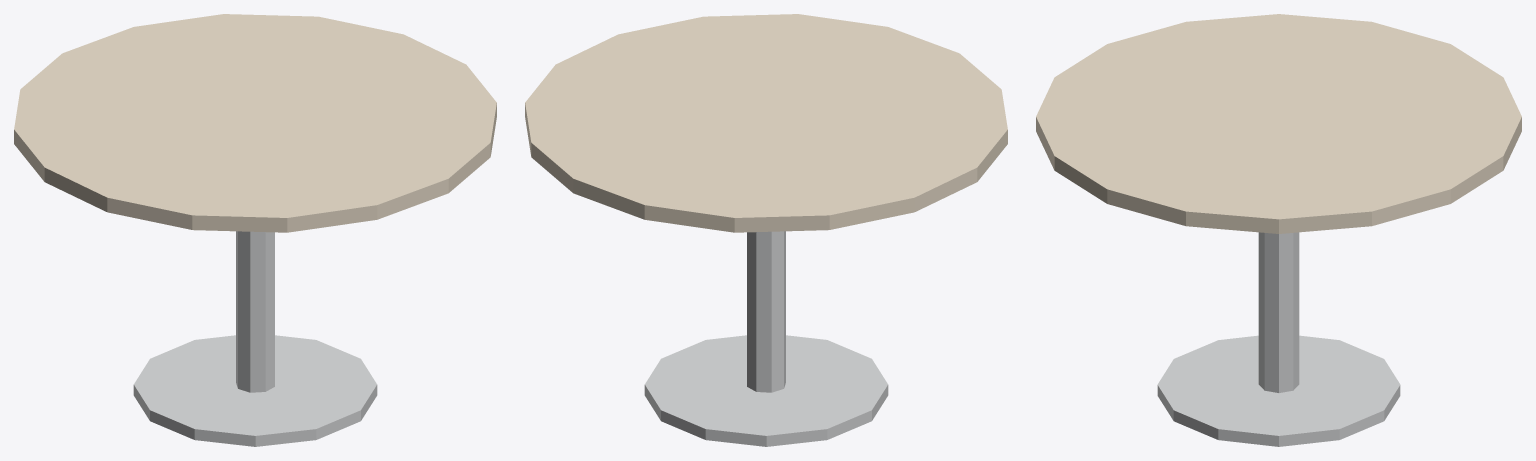
File: Table_Round.fbx
3 views of the same model, side by side, from view 1: azimuth 30°, elevation 25°; view 2: azimuth 150°, elevation 25°; view 3: azimuth 270°, elevation 25° (orthographic).
Parts seen in each view (by area): view 1: Table_Round; view 2: Table_Round; view 3: Table_Round.
Part boxes in pixels (box(x1,y1,x2,y2)): Table_Round: box(14, 14, 496, 446); Table_Round: box(525, 14, 1007, 446); Table_Round: box(1036, 14, 1521, 446).
Size of the model in its own units: 1.2 by 0.76 by 1.2.
